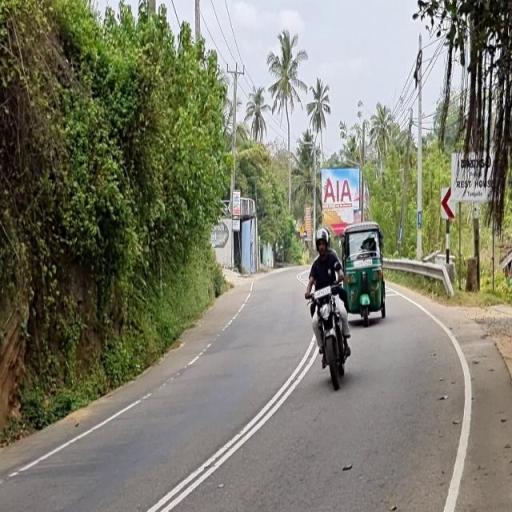double_white_line: (143, 336, 316, 510)
